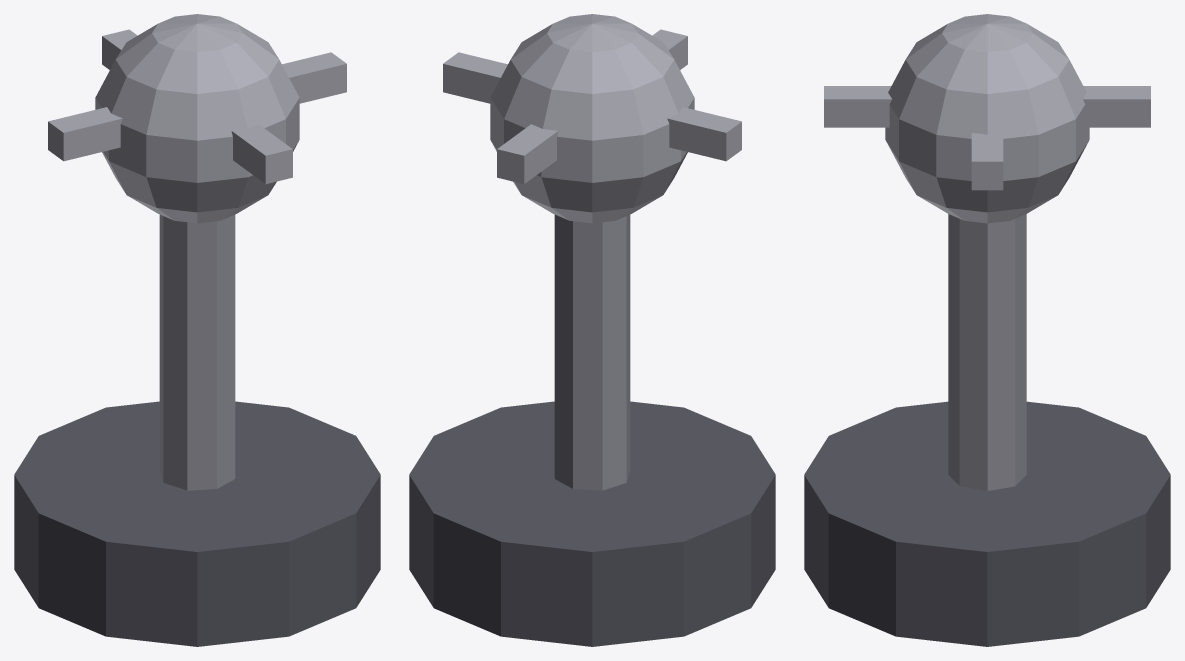
Rendered from Sprinkler_BasicSprinkler.fbx.
3 views of the same model, side by side, from view 1: azimuth 30°, elevation 25°; view 2: azimuth 150°, elevation 25°; view 3: azimuth 270°, elevation 25° (orthographic).
Parts seen in each view (by area): view 1: Base_BasicSprinkler, Cabeca_BasicSprinkler, Cano_BasicSprinkler; view 2: Base_BasicSprinkler, Cabeca_BasicSprinkler, Cano_BasicSprinkler; view 3: Base_BasicSprinkler, Cabeca_BasicSprinkler, Cano_BasicSprinkler.
Boxes of the visible parts, <box> form: Base_BasicSprinkler: <box>14,401,380,646</box>; Cabeca_BasicSprinkler: <box>48,14,346,223</box>; Cano_BasicSprinkler: <box>159,214,235,490</box>; Base_BasicSprinkler: <box>409,401,775,646</box>; Cabeca_BasicSprinkler: <box>443,14,741,223</box>; Cano_BasicSprinkler: <box>554,214,630,490</box>; Base_BasicSprinkler: <box>804,401,1170,646</box>; Cabeca_BasicSprinkler: <box>824,14,1150,223</box>; Cano_BasicSprinkler: <box>948,214,1026,491</box>.
Size of the model in its own units: 1.4 by 2.3 by 1.4.
Materials: 1 (1 with a texture image).
